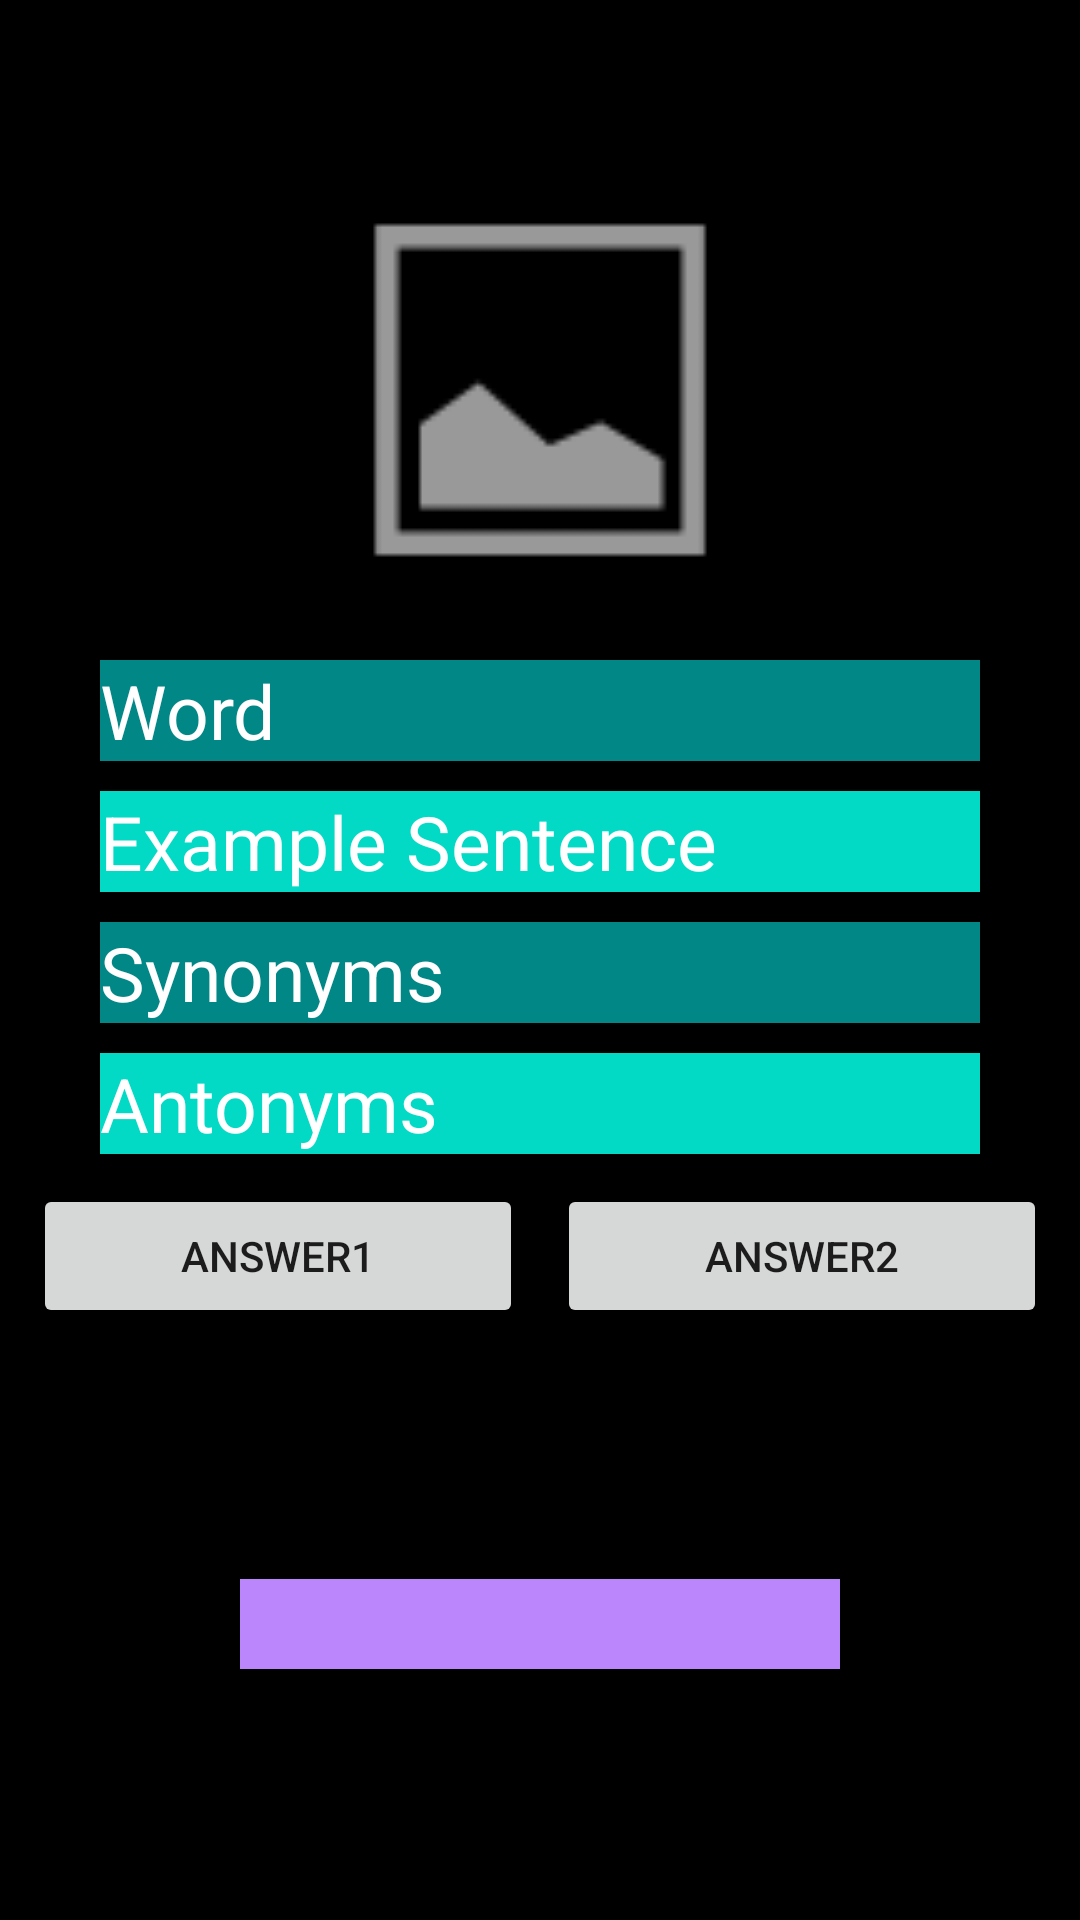

Point at icon controls on the screen. Image size 1080*1920, points as [x,y].
gallery: [540,390]
